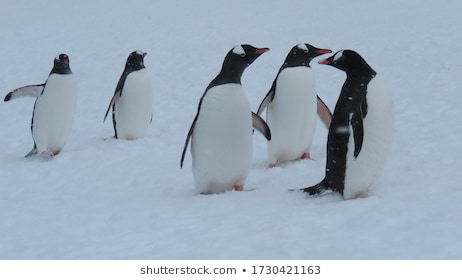penguin: (296, 48, 408, 225), (178, 33, 270, 208), (3, 45, 93, 174), (259, 14, 330, 169), (96, 40, 166, 158)
